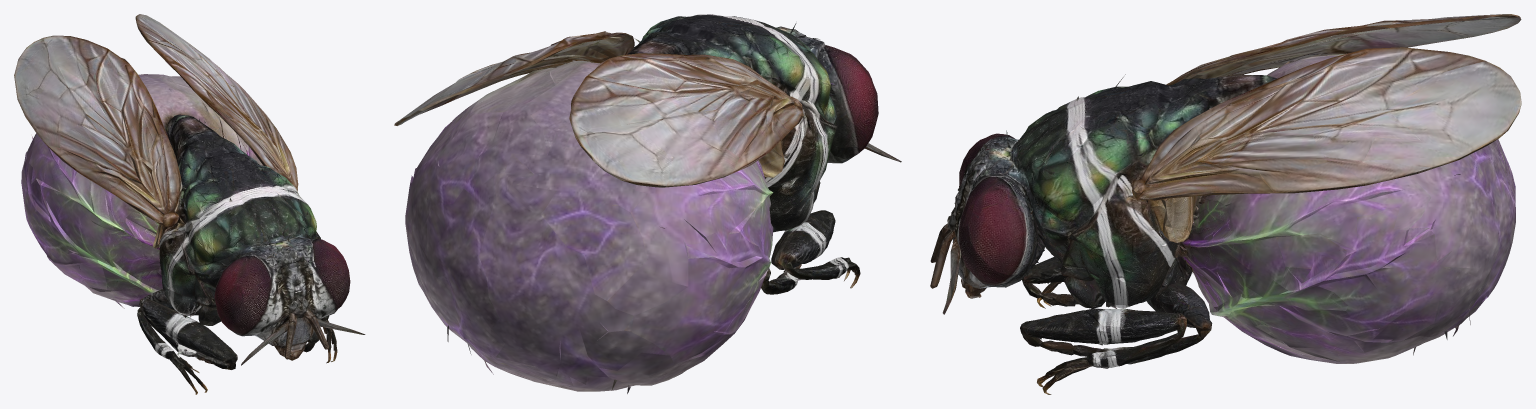
The model's file is fly.glb.
The picture shows the model from 3 angles, left to right: view 1: azimuth 30°, elevation 25°; view 2: azimuth 150°, elevation 25°; view 3: azimuth 270°, elevation 25°; orthographic projection. The views are drawn at different scales.
Visible parts, largest first — view 1: Mesh_0; view 2: Mesh_0; view 3: Mesh_0.
Boxes of the visible parts, left/top/right/bottom form: Mesh_0: left=14, top=14, right=365, bottom=394; Mesh_0: left=394, top=14, right=901, bottom=393; Mesh_0: left=930, top=14, right=1521, bottom=394.
Size of the model in its own units: 1.11 by 1.12 by 1.9.
1 material, 1 textured.
